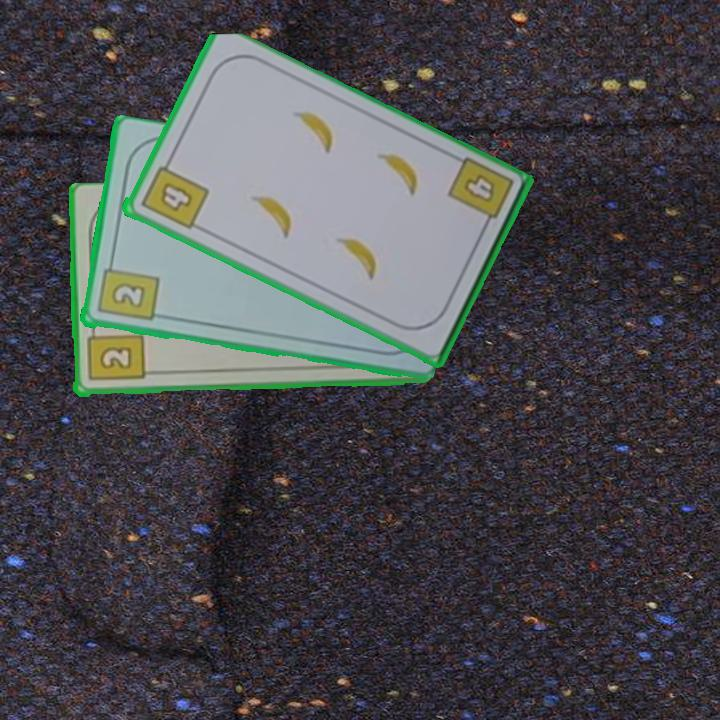2b: (93, 256, 161, 325), (84, 323, 146, 384)
4b: (136, 154, 211, 233), (459, 171, 498, 206)
